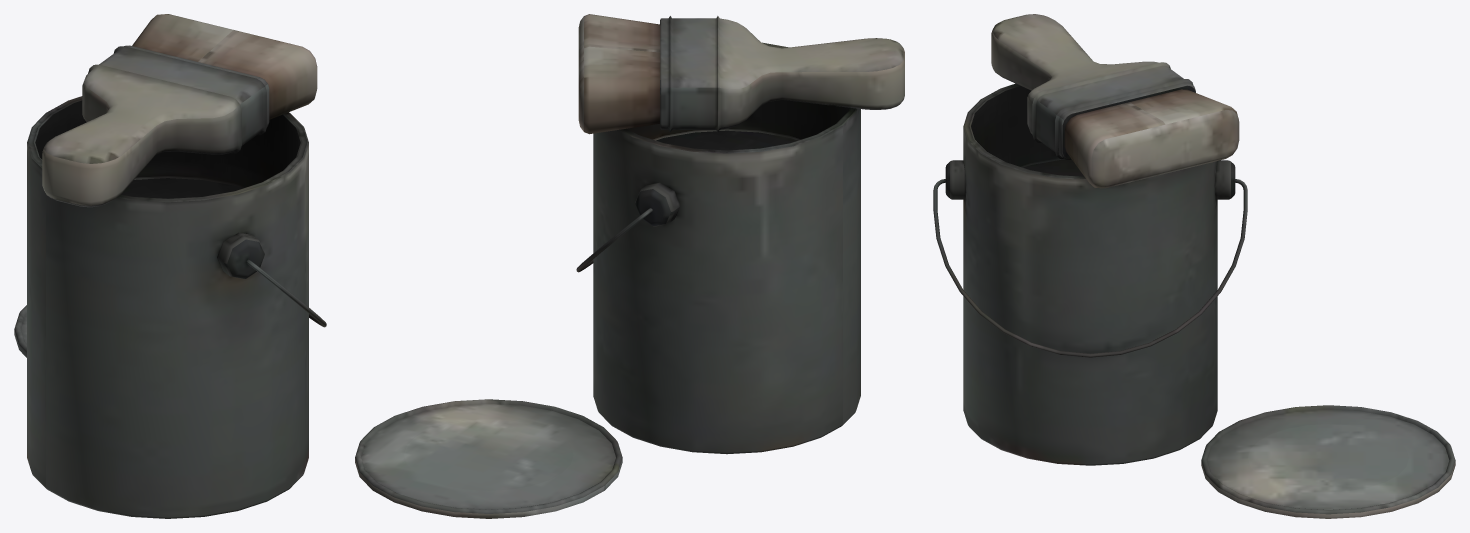
3 renders of one model, left to right at view 1: azimuth 30°, elevation 25°; view 2: azimuth 150°, elevation 25°; view 3: azimuth 270°, elevation 25°, orthographic. The views are drawn at different scales.
Parts seen in each view (by area): view 1: body0_model0_lod0_mesh0; view 2: body0_model0_lod0_mesh0; view 3: body0_model0_lod0_mesh0.
Boxes of the visible parts, x1=… form: body0_model0_lod0_mesh0: x1=14, y1=14, x2=326, y2=518; body0_model0_lod0_mesh0: x1=355, y1=14, x2=904, y2=518; body0_model0_lod0_mesh0: x1=933, y1=14, x2=1455, y2=518.
Bounding box in the file's own units: 39.73 × 36.09 × 50.5.
1 material, 1 textured.
